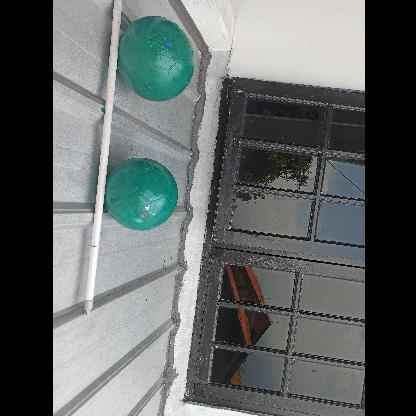green_ball: (114, 16, 200, 100), (105, 158, 178, 230)
